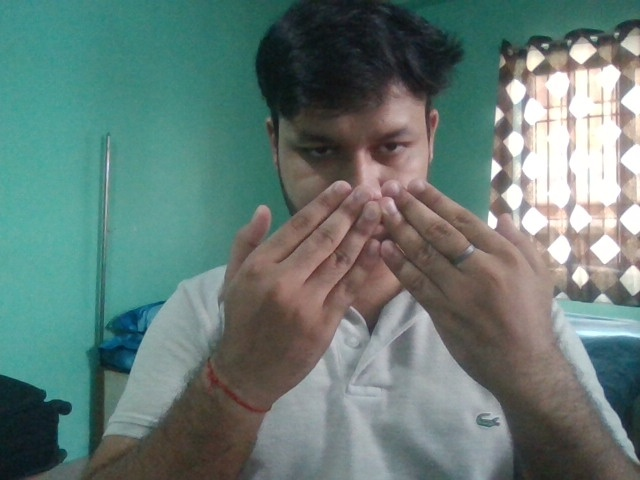Thank You: (214, 176, 560, 383)
